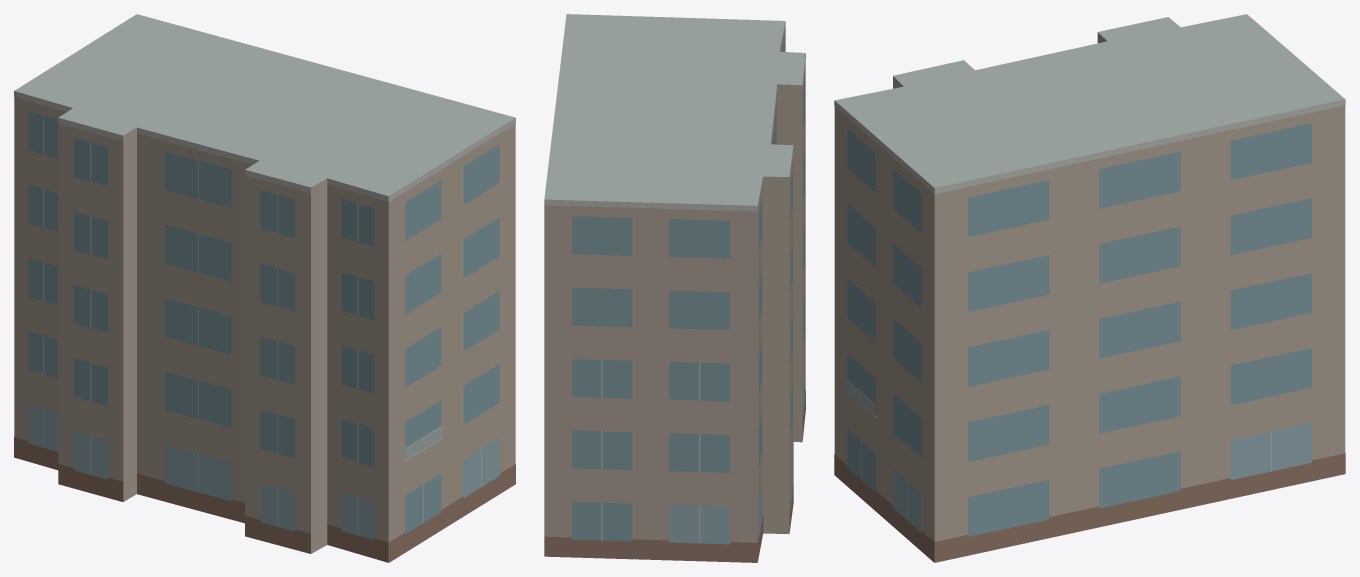
Rendered from survey-upis-32700475.glb.
The picture shows the model from 3 angles, left to right: view 1: azimuth 30°, elevation 25°; view 2: azimuth 150°, elevation 25°; view 3: azimuth 270°, elevation 25°; orthographic projection. The views are drawn at different scales.
Parts seen in each view (by area): view 1: survey-upis-32700475.tmp; view 2: survey-upis-32700475.tmp; view 3: survey-upis-32700475.tmp.
Part boxes in pixels (box(x1,y1,x2,y2)): survey-upis-32700475.tmp: box(14, 14, 515, 562); survey-upis-32700475.tmp: box(544, 14, 805, 562); survey-upis-32700475.tmp: box(834, 14, 1345, 562).
Size of the model in its own units: 15.2 by 15.25 by 18.85.
